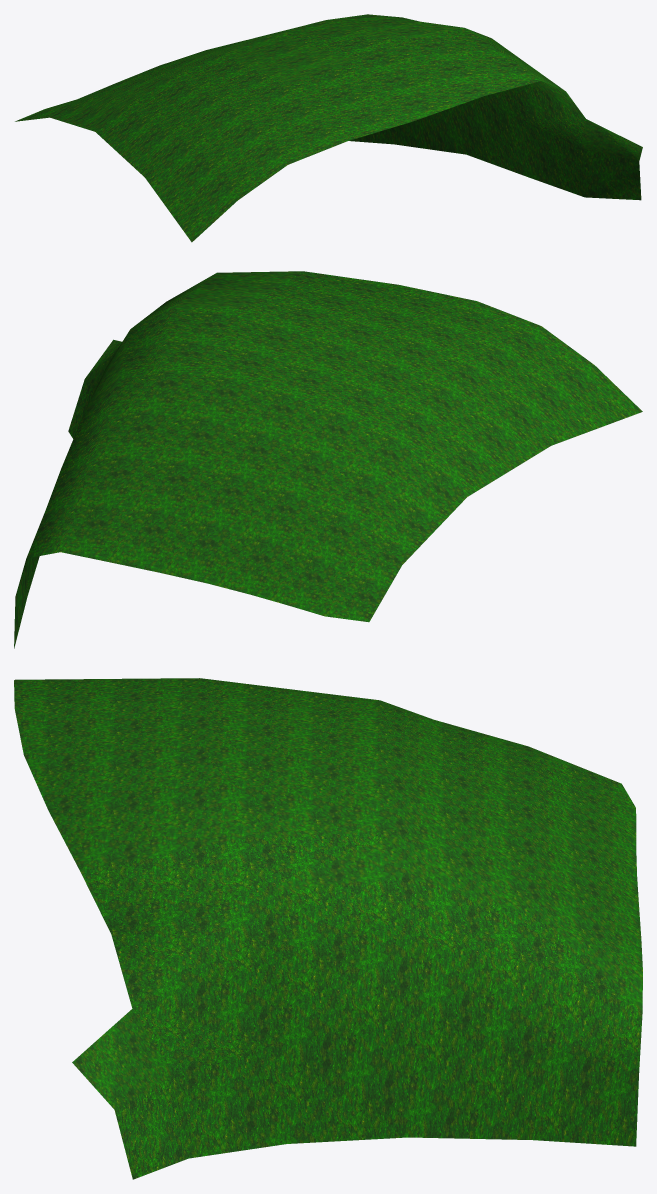
Rendered from HTOWN01_PS08.fbx.
3 views of the same model, one above another, from view 1: azimuth 30°, elevation 25°; view 2: azimuth 150°, elevation 25°; view 3: azimuth 270°, elevation 25° (orthographic). The views are drawn at different scales.
Parts seen in each view (by area): view 1: HTOWN01_PS08; view 2: HTOWN01_PS08; view 3: HTOWN01_PS08.
Part boxes in pixels (box(x1,y1,x2,y2)): HTOWN01_PS08: box(15, 14, 642, 242); HTOWN01_PS08: box(14, 271, 642, 648); HTOWN01_PS08: box(14, 678, 642, 1179).
Size of the model in its own units: 255098 by 111617 by 201871.
2 materials, 2 textured.
